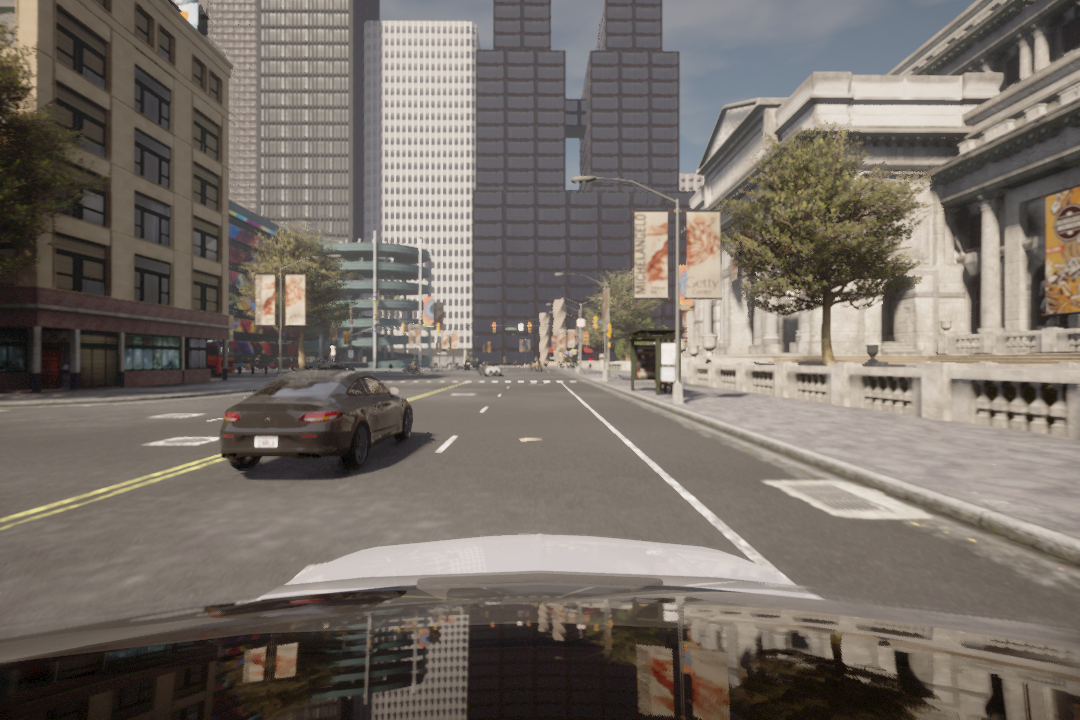walkside: (373, 377, 600, 386)
